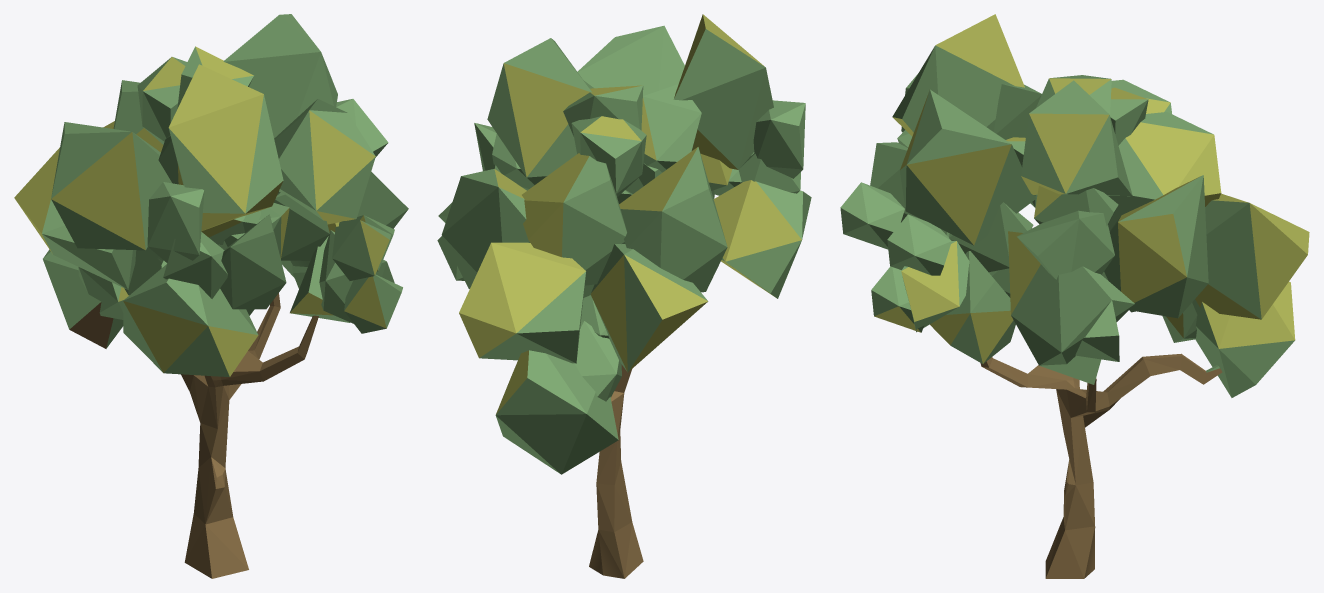
The model's file is tree4.fbx.
3 views of the same model, side by side, from view 1: azimuth 30°, elevation 25°; view 2: azimuth 150°, elevation 25°; view 3: azimuth 270°, elevation 25° (orthographic). The views are drawn at different scales.
Visible parts, largest first — view 1: tree2; view 2: tree2; view 3: tree2.
Boxes of the visible parts, x1,y1,x2,y2 form: tree2: (14,14,408,578); tree2: (437,14,811,578); tree2: (840,14,1309,578).
Bounding box in the file's own units: 71.95 × 113 × 90.47.
